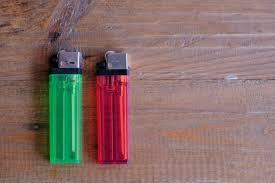lighter: (93, 53, 130, 166), (49, 46, 82, 163)
